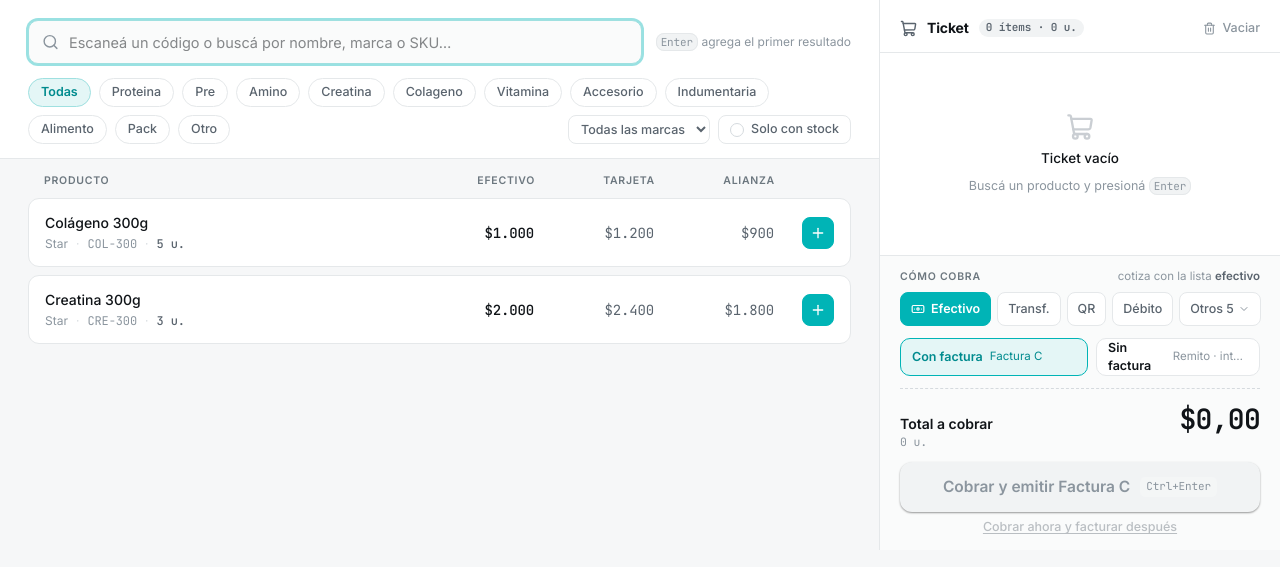
Test: El catálogo dibuja sus columnas y su estado vacío › una búsqueda sin resultados NO deja una lista en blanco
Type "zzzzz" into the field with placeholder "Escaneá un código o buscá por nombre, marca o SKU…" at (335, 42), box [28, 20, 642, 64]
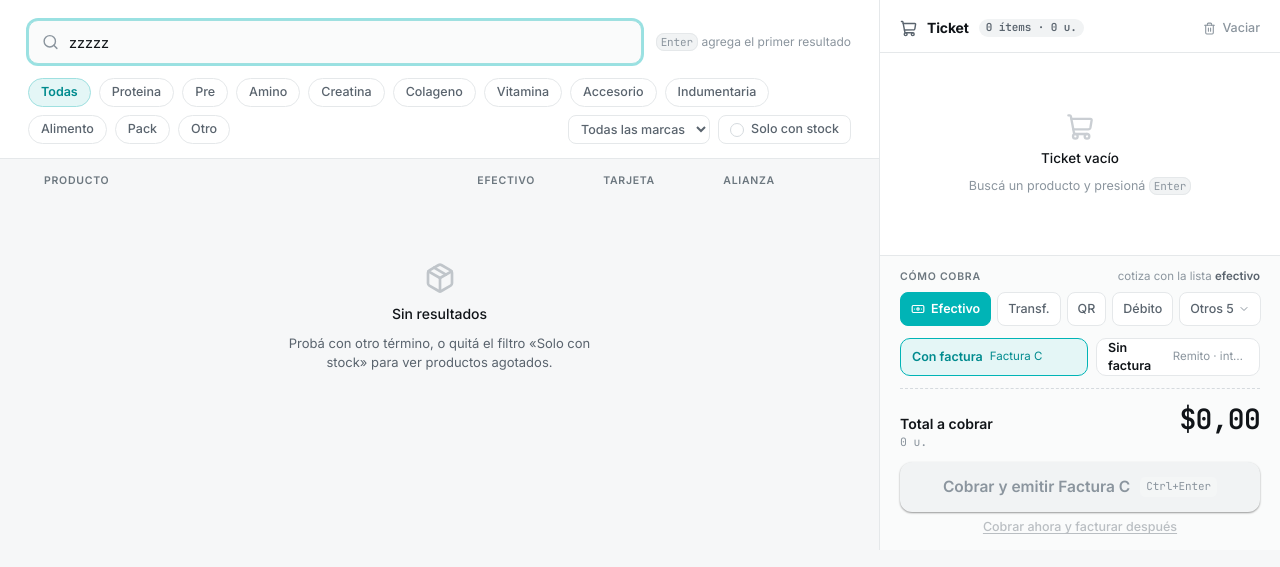
Result: the text "Sin resultados" is shown at [392, 304, 487, 324]
Result: the text "quitá el filtro «Solo con stock»" is shown at [289, 335, 590, 370]
